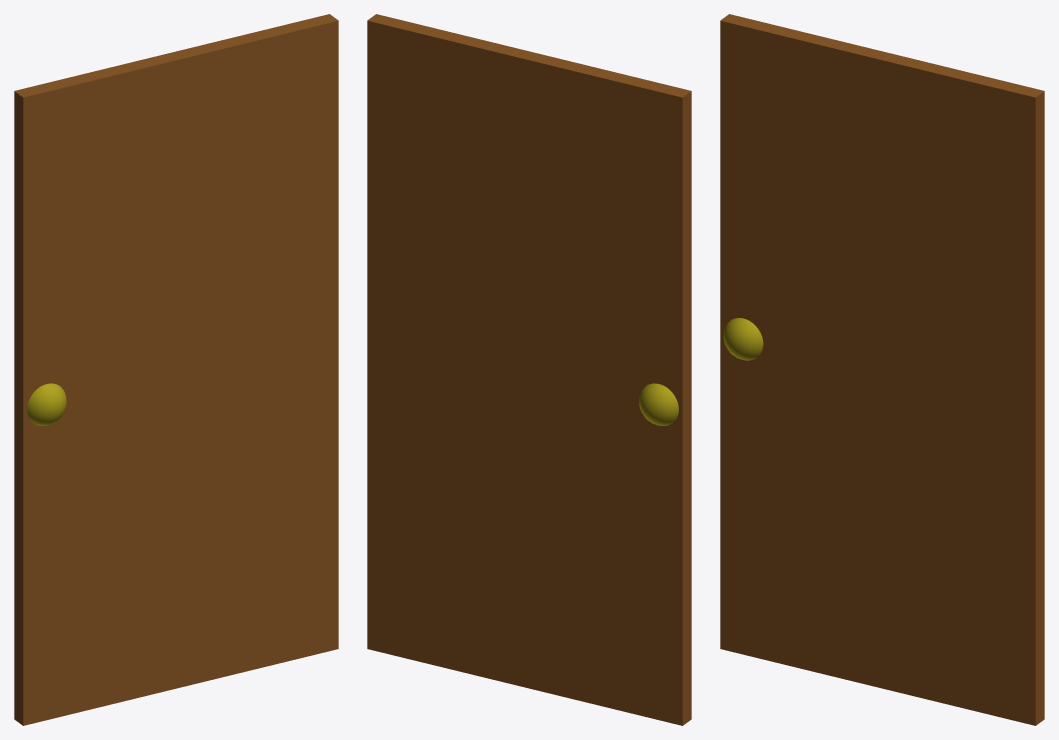
Rendered from Door.fbx.
The picture shows the model from 3 angles, left to right: view 1: azimuth 30°, elevation 25°; view 2: azimuth 150°, elevation 25°; view 3: azimuth 330°, elevation 25°; orthographic projection.
Parts seen in each view (by area): view 1: pCube1, pSphere1; view 2: pCube1, pSphere1; view 3: pCube1, pSphere1.
Boxes of the visible parts, x1,y1,x2,y2 form: pCube1: (14,14,338,725); pSphere1: (27,383,66,425); pCube1: (367,14,691,725); pSphere1: (639,383,678,425); pCube1: (720,14,1044,725); pSphere1: (723,318,763,360).
Size of the model in its own units: 2.32 by 4.42 by 0.3149.
